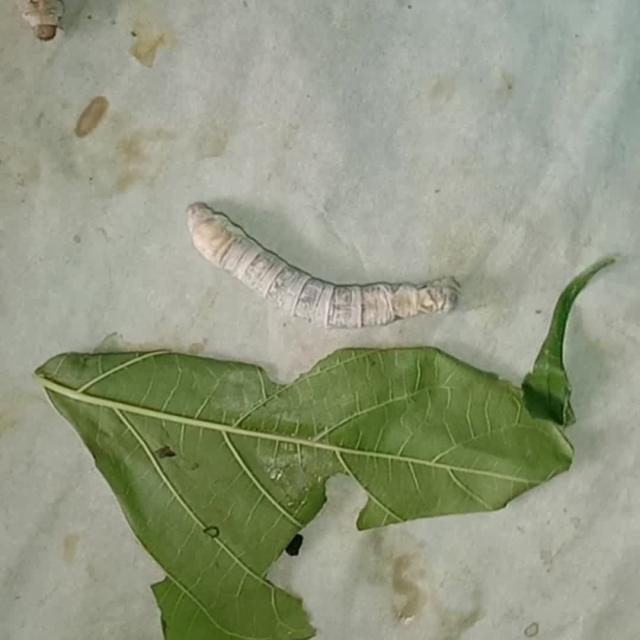Grasserie: (169, 157, 493, 373)
